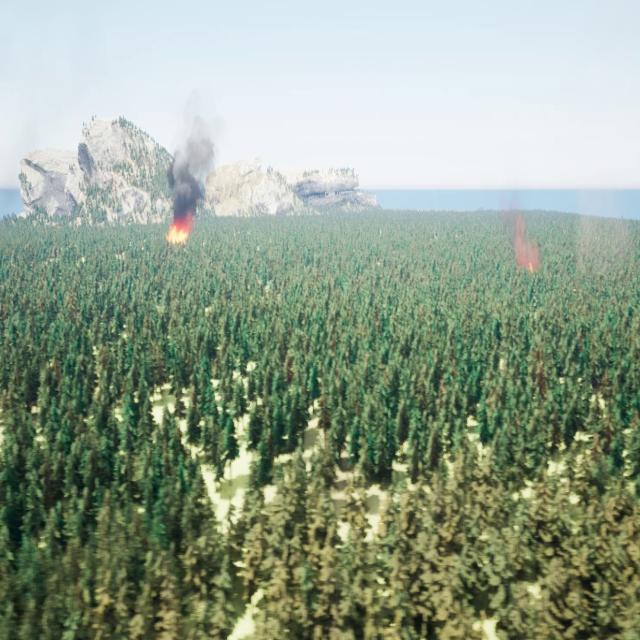fire: (162, 218, 196, 245)
smoke: (165, 93, 218, 220), (507, 210, 544, 270)
